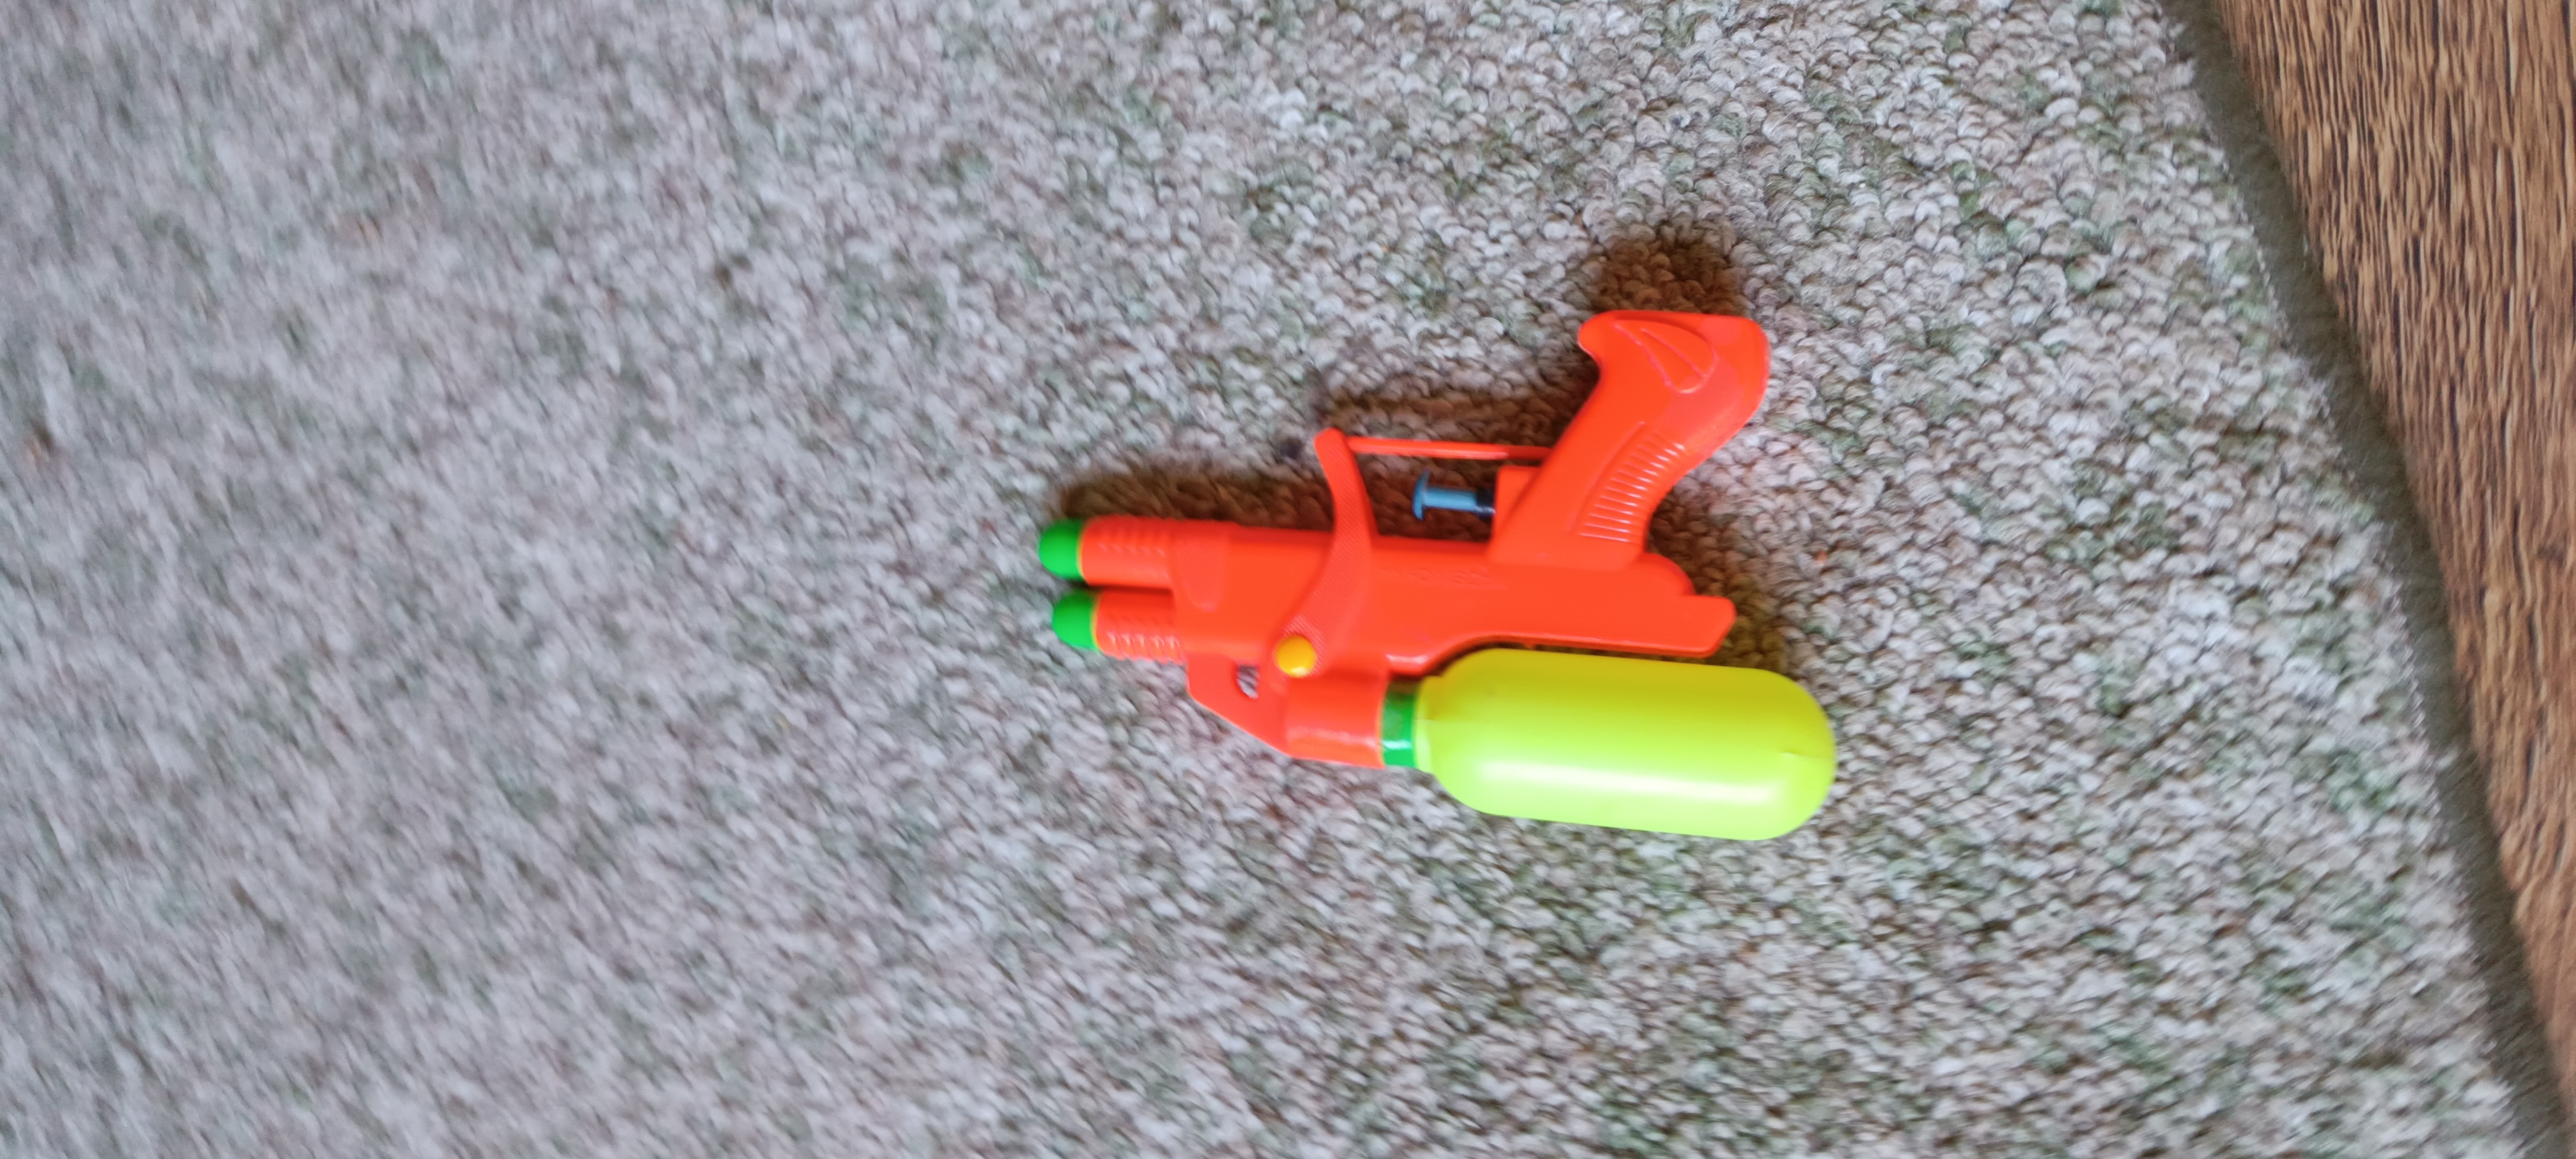Water Gun: (1038, 309, 1837, 842)
